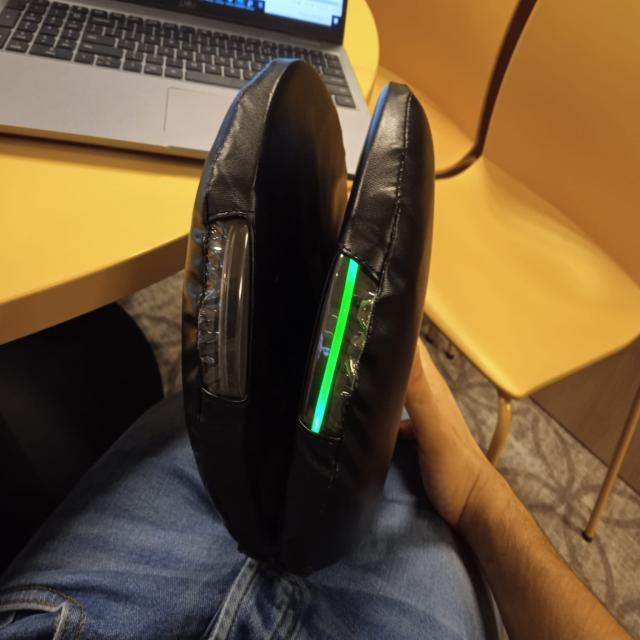trigger: (302, 252, 361, 442)
